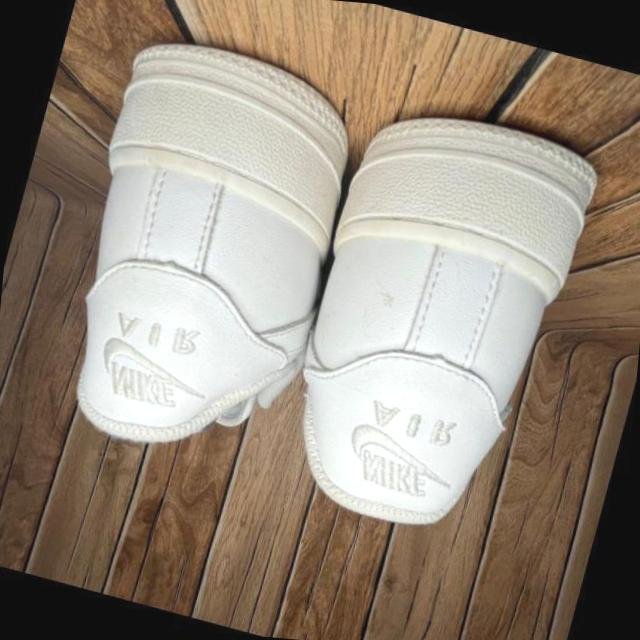nike_fake_airforce: (24, 14, 394, 499), (258, 81, 612, 561)
